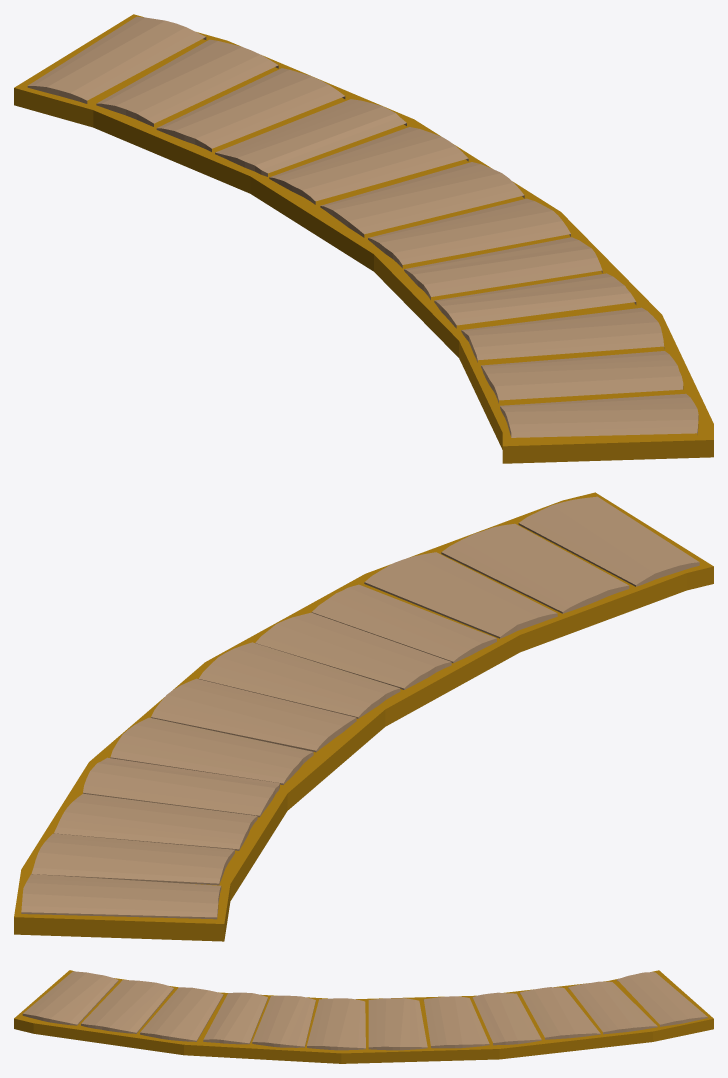
File: 3-circle-bitkisiz.fbx
The picture shows the model from 3 angles, top to bottom: view 1: azimuth 30°, elevation 25°; view 2: azimuth 150°, elevation 25°; view 3: azimuth 270°, elevation 25°; orthographic projection. The views are drawn at different scales.
Parts seen in each view (by area): view 1: Cylinder.051; view 2: Cylinder.051; view 3: Cylinder.051.
Part boxes in pixels (x1,y1,x2,y2): Cylinder.051: [14, 14, 713, 463]; Cylinder.051: [14, 492, 713, 941]; Cylinder.051: [14, 970, 713, 1063].
Bounding box in the file's own units: 1700 × 135 × 6029.
